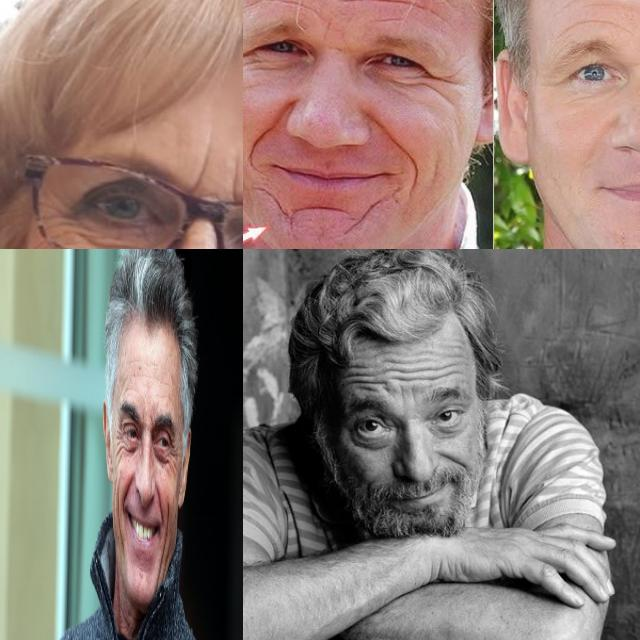chin: (290, 201, 348, 223), (254, 179, 284, 211), (359, 197, 387, 225)
crows_feet: (42, 196, 82, 248), (424, 68, 456, 102), (243, 45, 256, 70), (114, 424, 124, 451), (170, 440, 178, 472)
forehead: (389, 358, 457, 382), (348, 362, 380, 391), (387, 0, 429, 12), (142, 367, 155, 386), (119, 376, 130, 398)
frown_line: (180, 144, 212, 196), (225, 162, 243, 208), (397, 384, 419, 410), (317, 17, 337, 43), (148, 409, 154, 429)
gummy_smile: (369, 114, 413, 158), (253, 110, 287, 148), (434, 448, 470, 469), (123, 478, 132, 504), (157, 488, 163, 522)
masseter: (164, 498, 170, 536), (159, 538, 165, 574), (116, 491, 121, 528), (119, 530, 126, 556)
sad_smile: (404, 168, 422, 198), (244, 153, 262, 173)
